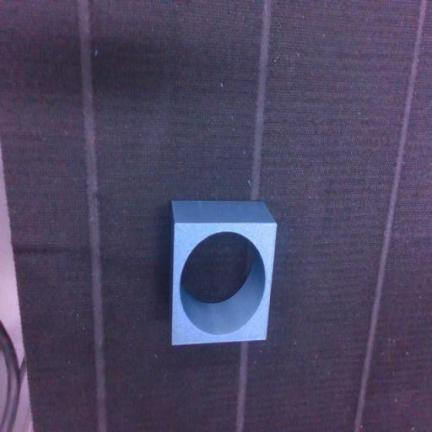hole: (173, 201, 276, 345)
